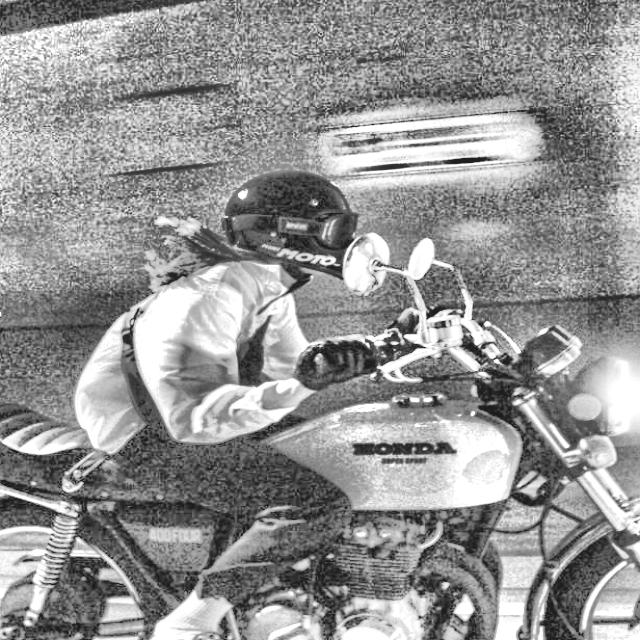Helmet: (218, 167, 361, 290)
